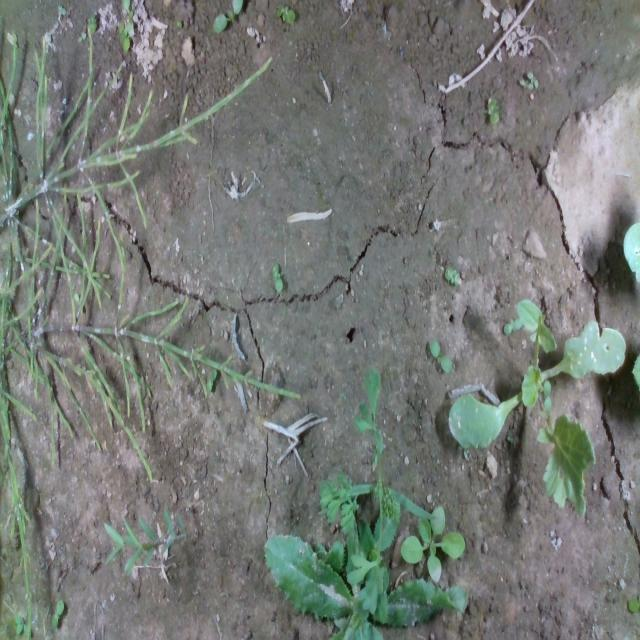weed: (426, 332, 454, 376), (264, 254, 288, 305), (275, 1, 305, 33), (518, 66, 543, 100), (482, 92, 502, 129), (443, 257, 463, 294)
